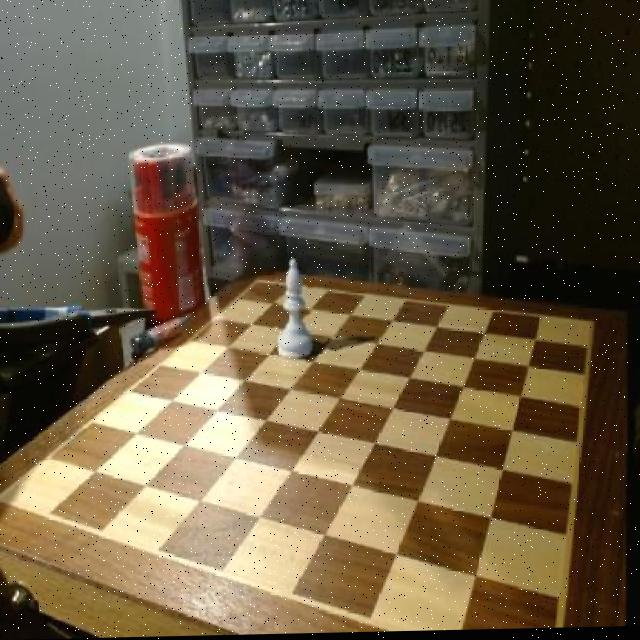black-rook: (273, 256, 312, 365)
